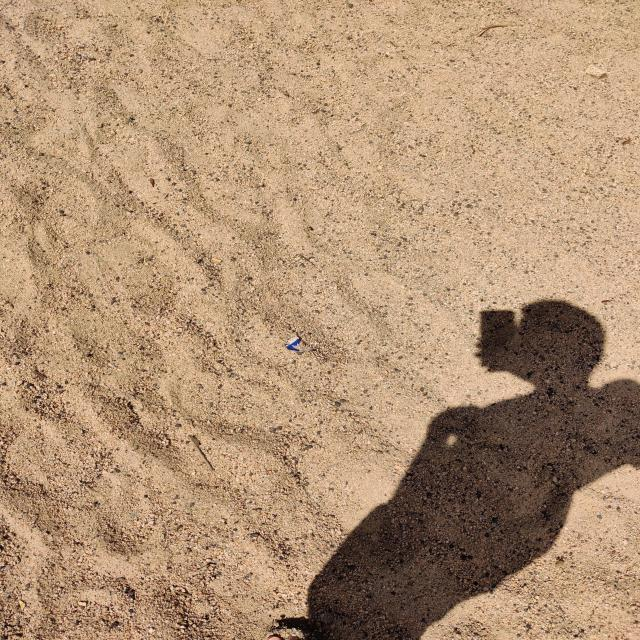litter: (284, 336, 313, 352), (211, 257, 222, 263)
